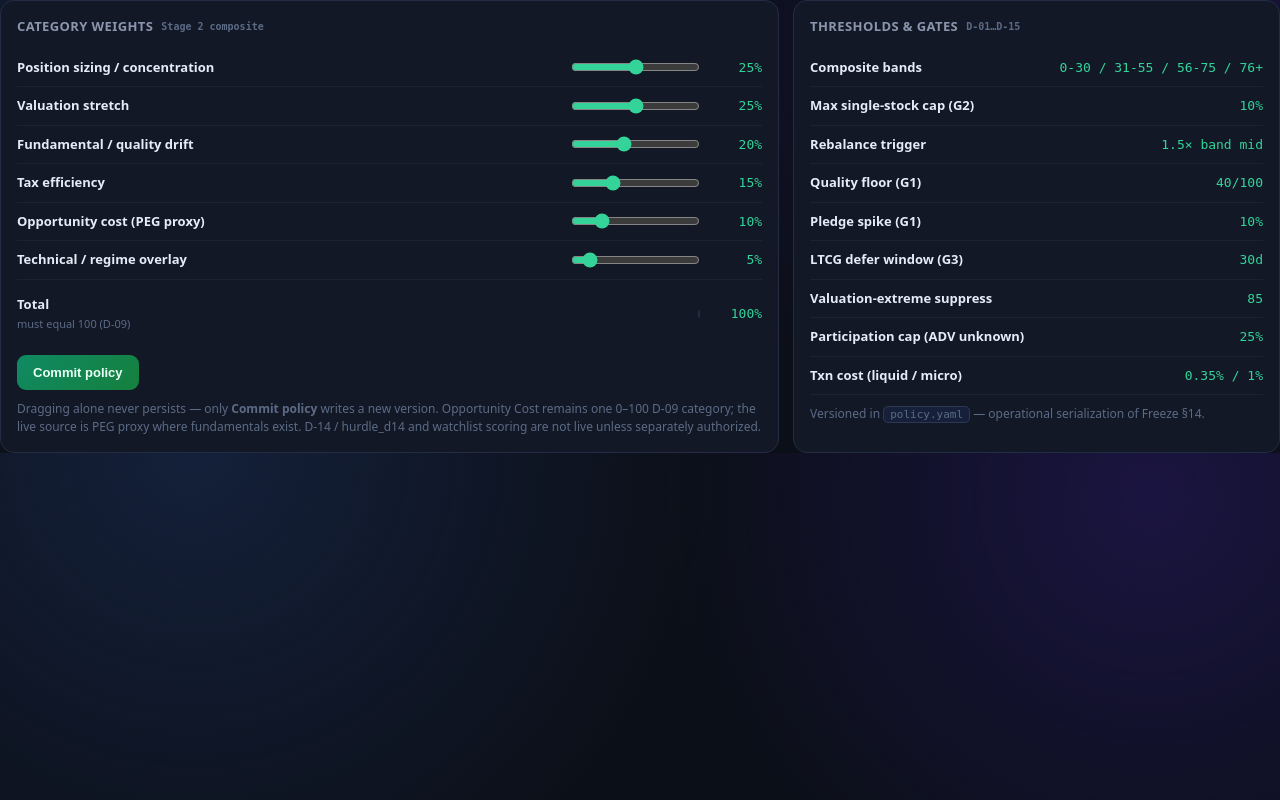
WeightsView — D-09 weight validation › accepts a re-balanced 100 (move a point between categories)
This screenshot has width=1280, height=800.
Later steps or results of the test are not shown.
Set the slider in the row of "Technical / regime overlay" to "4" at (588, 260), box [571,252,700,268]
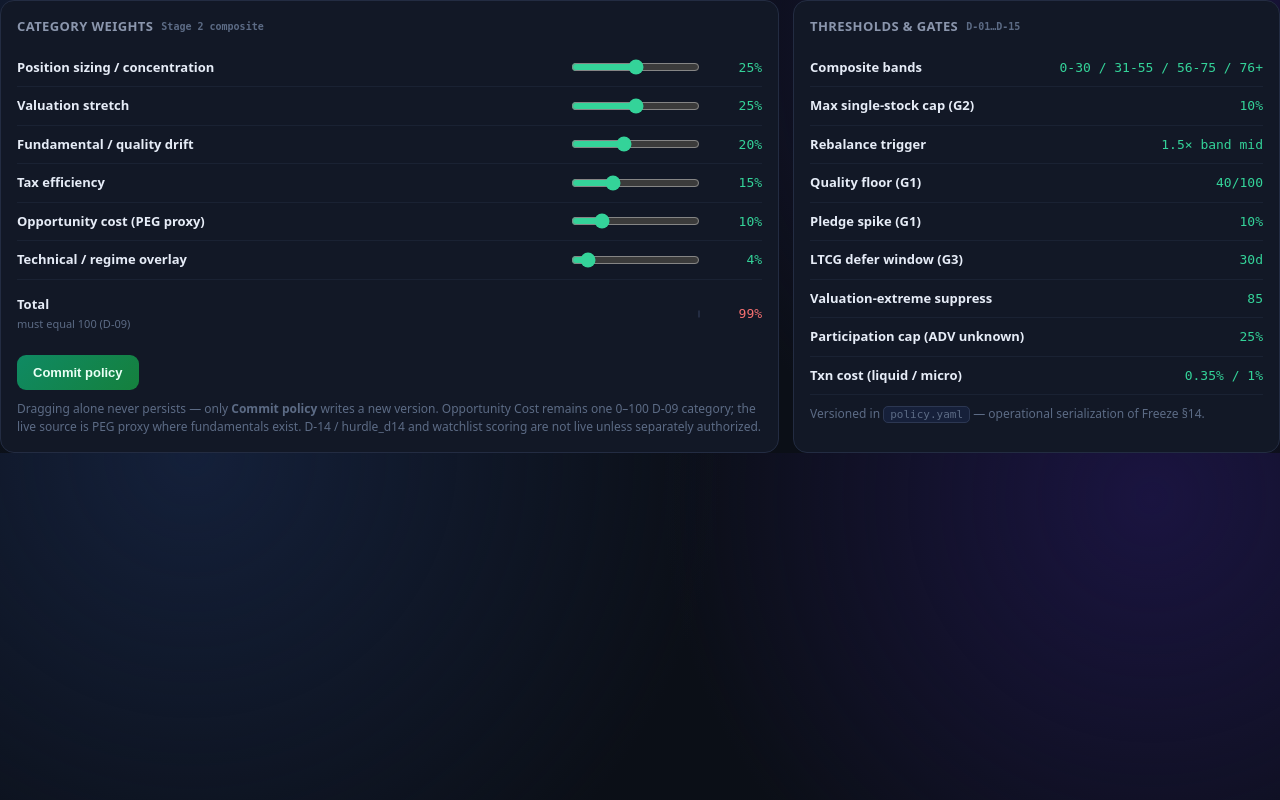
Set the slider in the row of "Position sizing / concentration" to "26" at (638, 67), box [571,59,700,75]
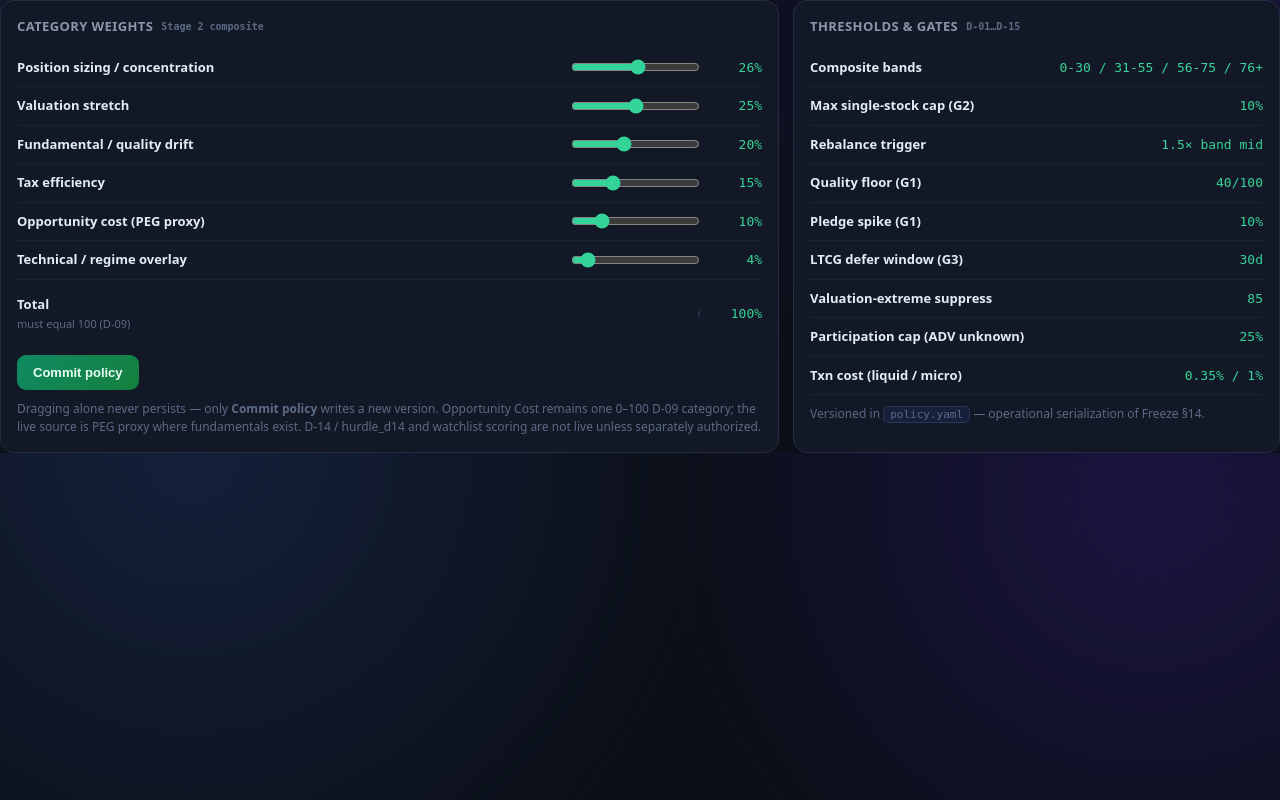
Check: the text "100%" is shown, box [731,306,762,321]
